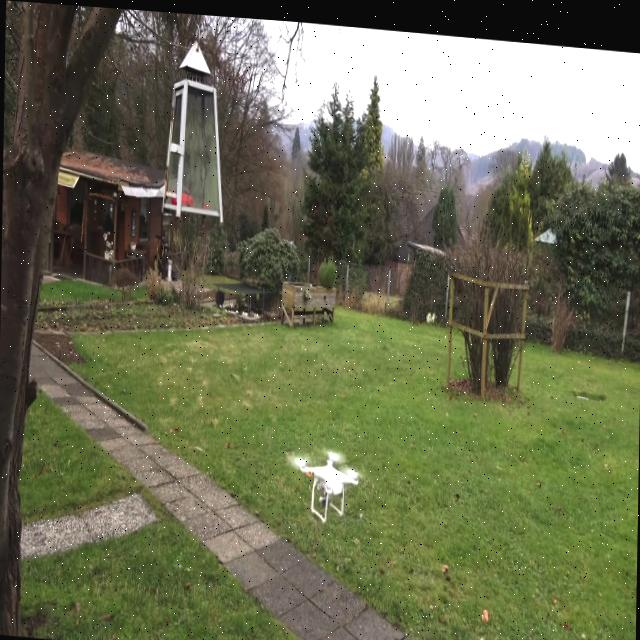drone: (288, 435, 364, 521)
